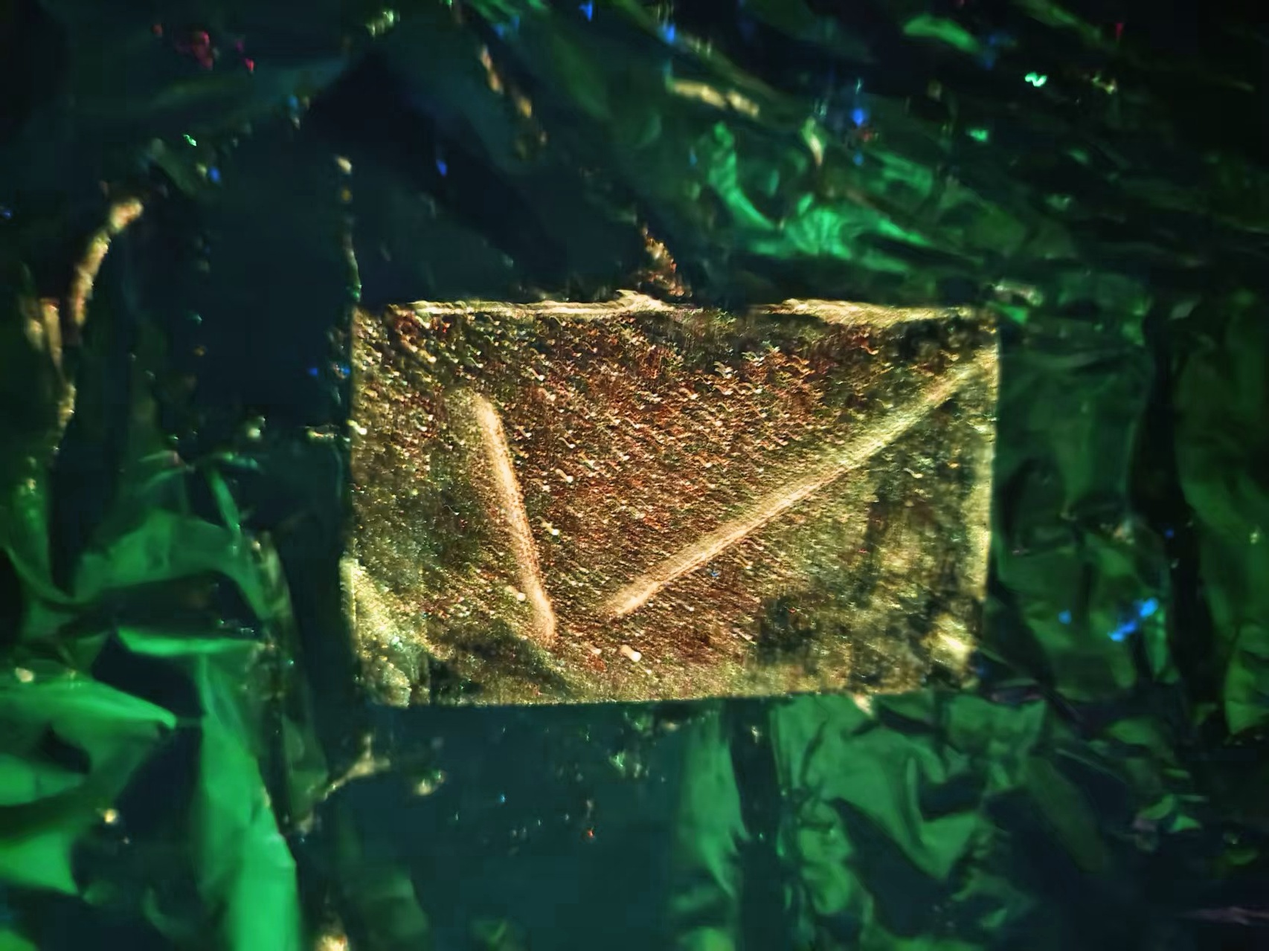Fissure: (614, 344, 999, 624), (457, 388, 575, 646)
